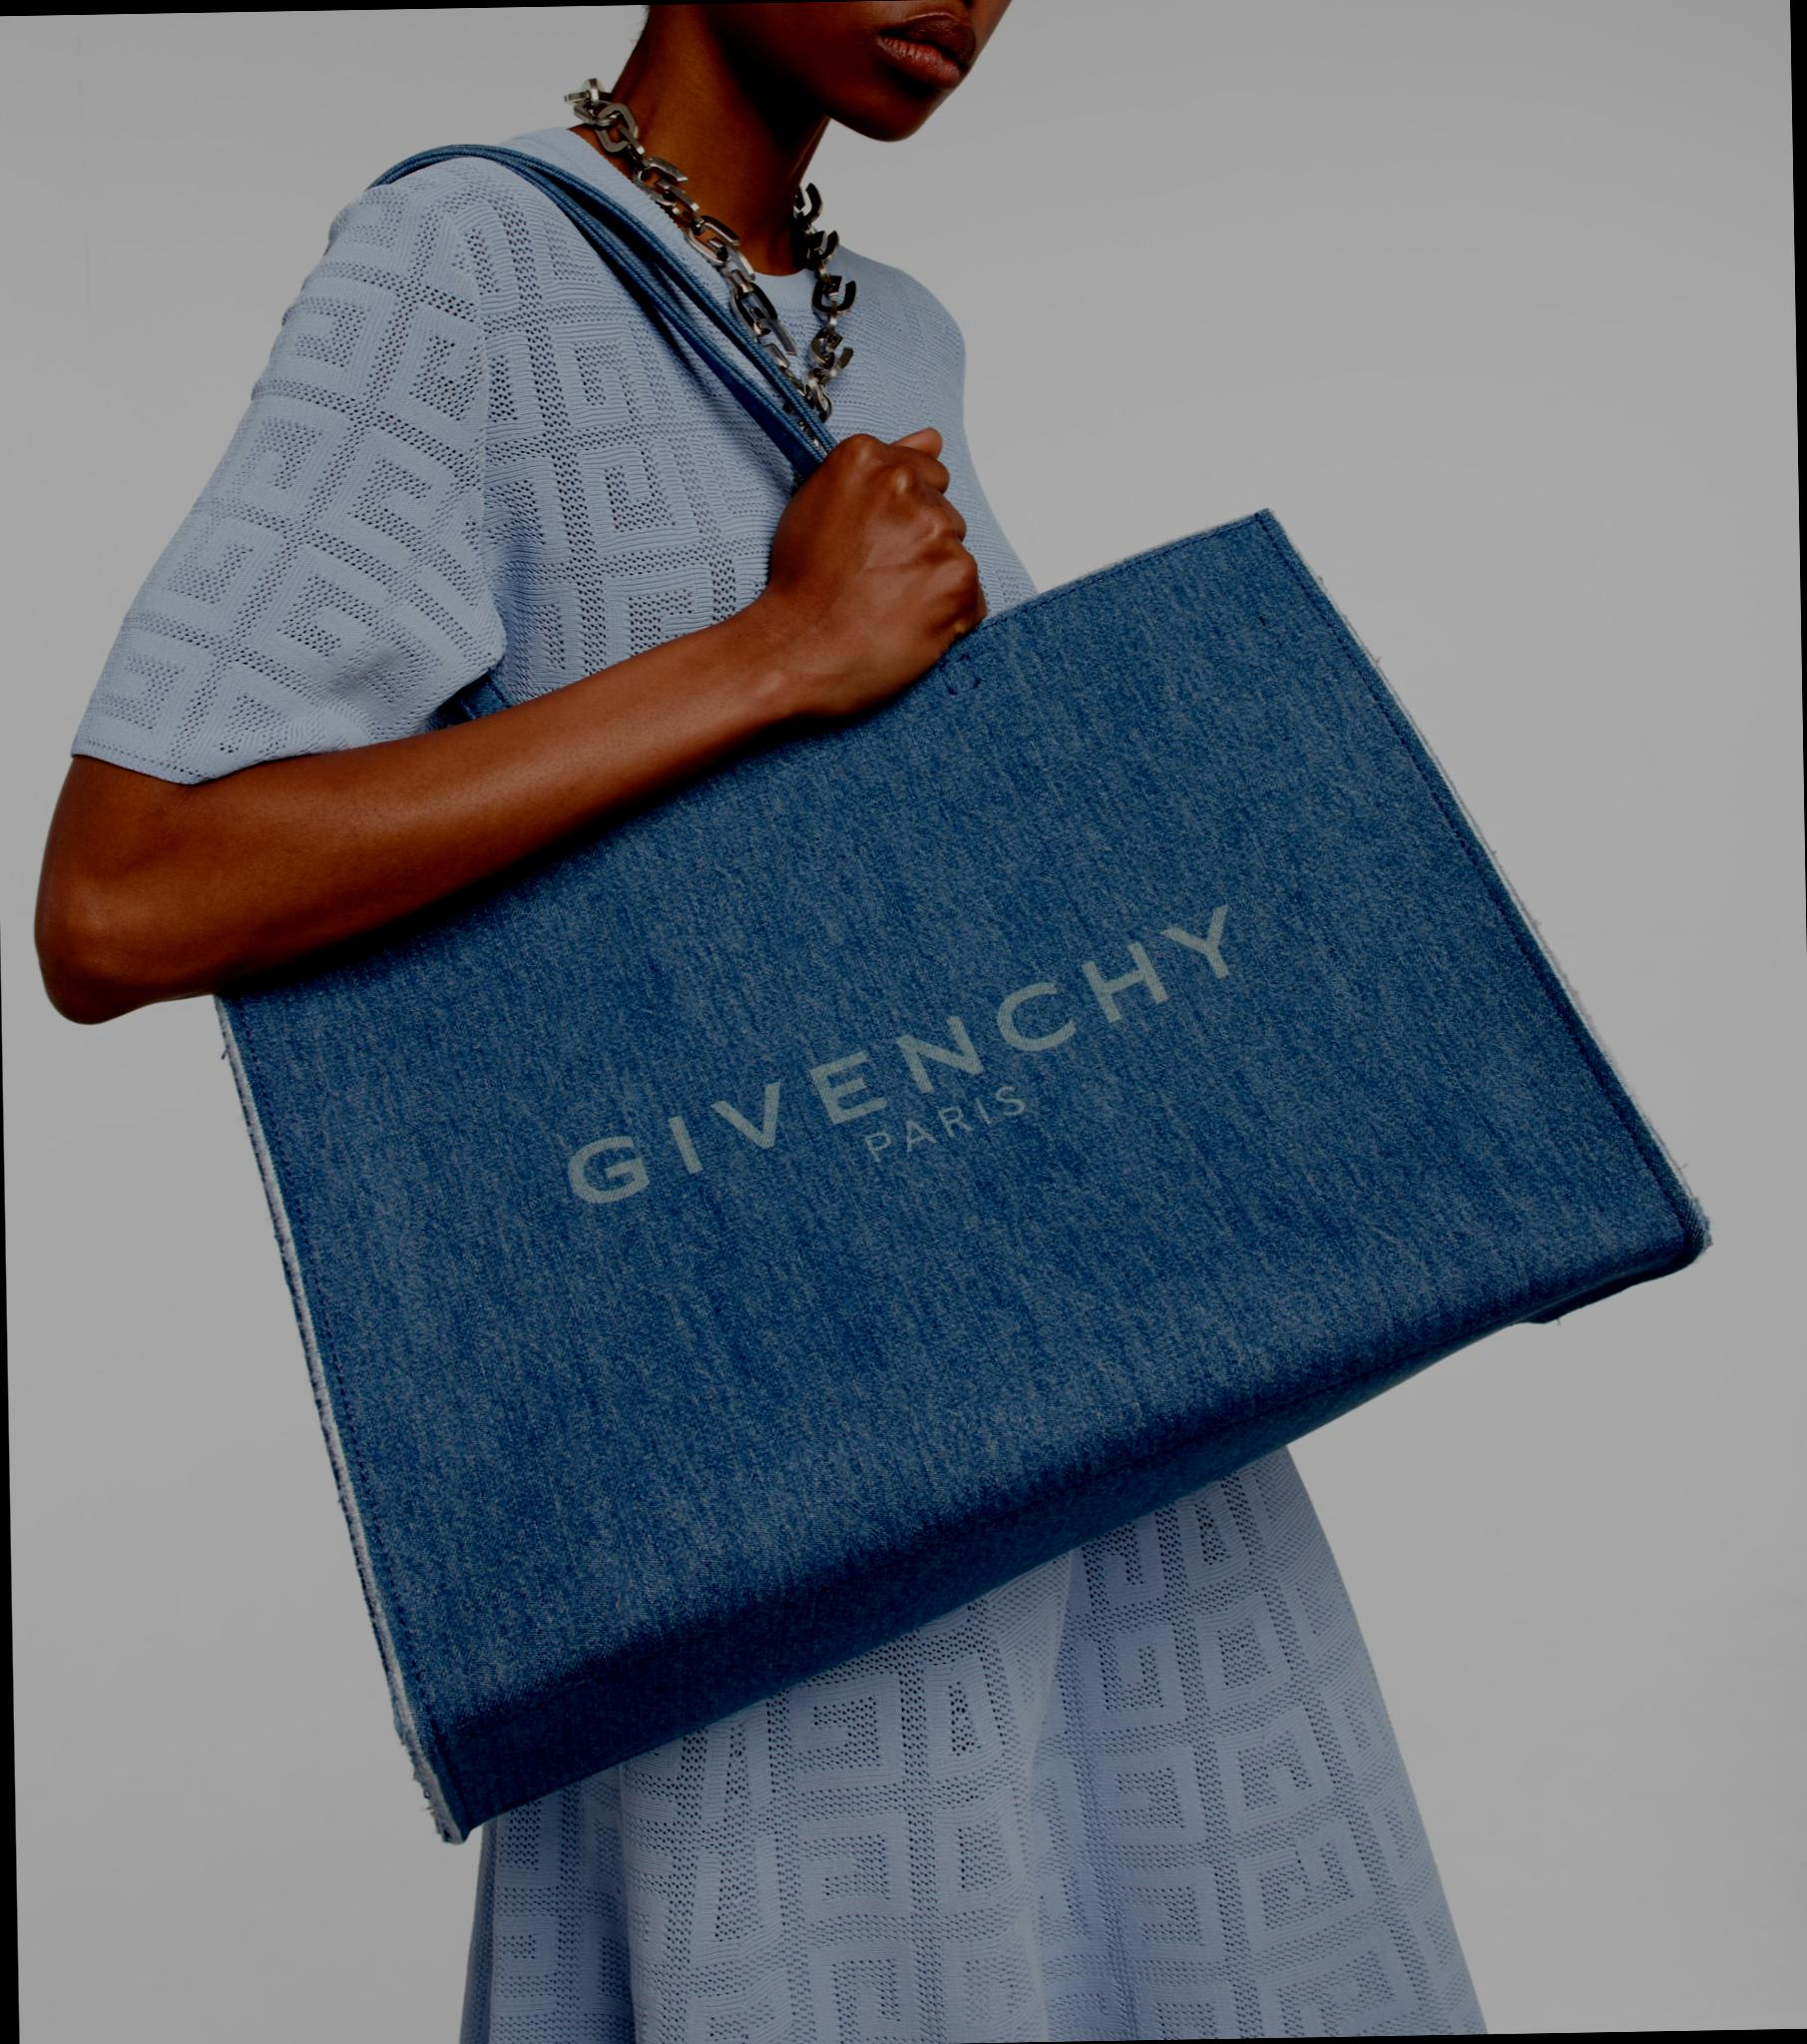GIVENCHY: (509, 869, 1279, 1263)
